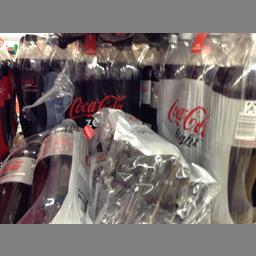soda: (31, 114, 87, 223), (0, 132, 39, 220), (14, 33, 44, 127), (46, 38, 78, 126), (108, 38, 140, 116)
